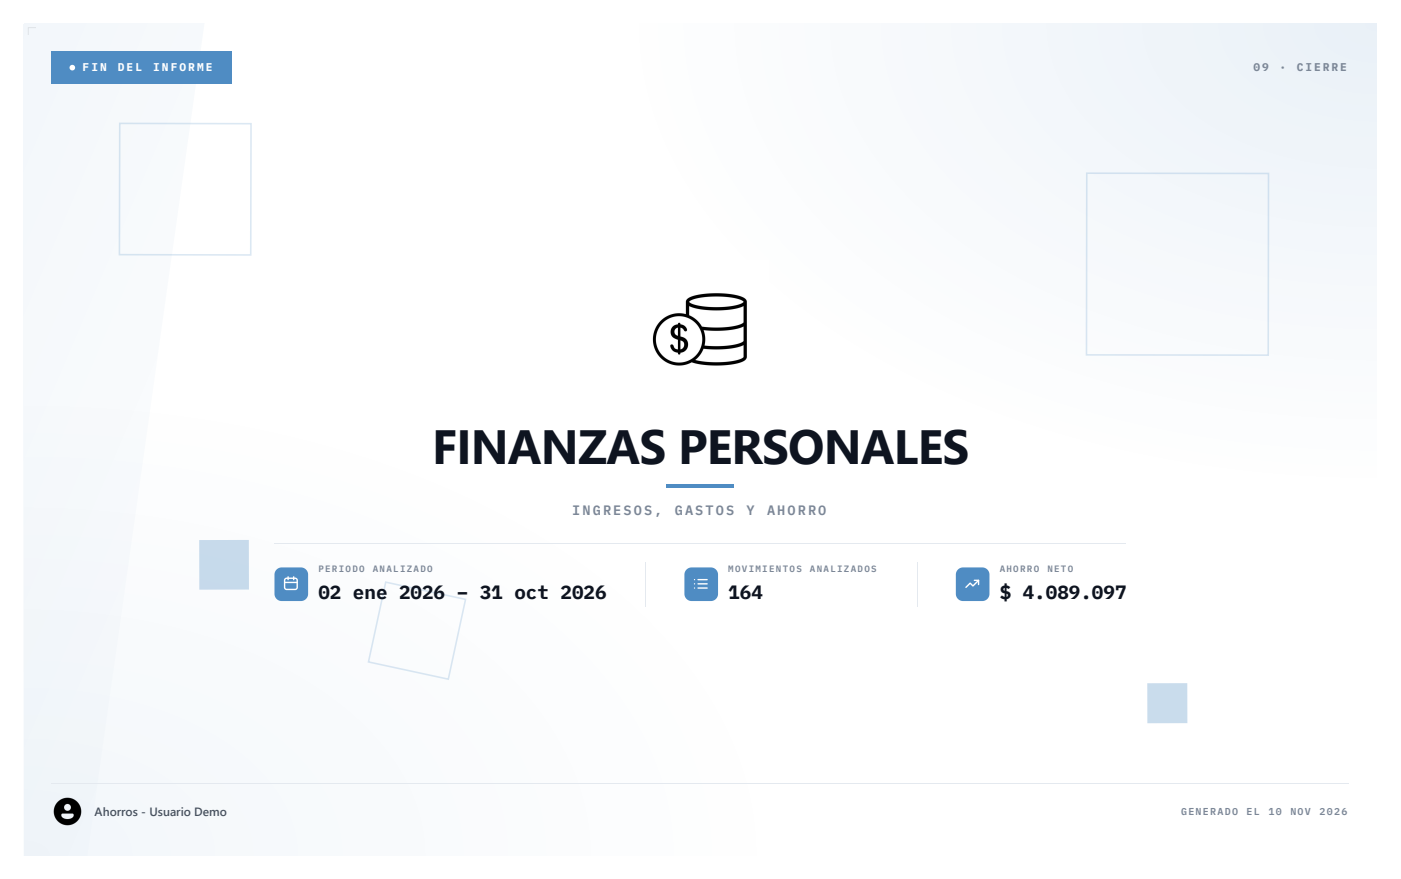

Layout of this report page (visuals, bound fields, positions):
{"tool":"powerbi","page":{"name":"Cierre","canvas":[1700,1050],"ordinal":9},"visuals":[{"type":"slicer","fields":{"Values":["Calendario.Año","Calendario.Mes"]},"box":[0,0,19,19],"z":2000},{"type":"htmlContent443BE3AD55E043BF878BED274D3A6855","fields":{"content":["Medidas.CIE Cierre HTML"]},"box":[0,0,1700,1050],"z":5000},{"type":"shape","box":[0,90.3,1700,961.3],"z":6000},{"type":"actionButton","box":[40,40,240,52],"z":7000},{"type":"shape","box":[277.5,0,1422.5,1052.5],"z":8000},{"type":"shape","box":[0,0,38.7,1051.6],"z":9000},{"type":"shape","box":[0,0,1700,38.7],"z":10000}]}

Visuals, with their boxes in screenshot pixels (x1, y1, x2, y2), scaled from the page's 1700x1050 canvas onto the 1401x879 screenshot:
slicer - Calendario.Año x Calendario.Mes: locate(0, 0, 16, 16)
htmlContent443BE3AD55E043BF878BED274D3A6855 - Medidas.CIE Cierre HTML: locate(0, 0, 1400, 878)
shape: locate(0, 76, 1400, 878)
actionButton: locate(33, 33, 231, 77)
shape: locate(229, 0, 1400, 878)
shape: locate(0, 0, 32, 878)
shape: locate(0, 0, 1400, 32)
